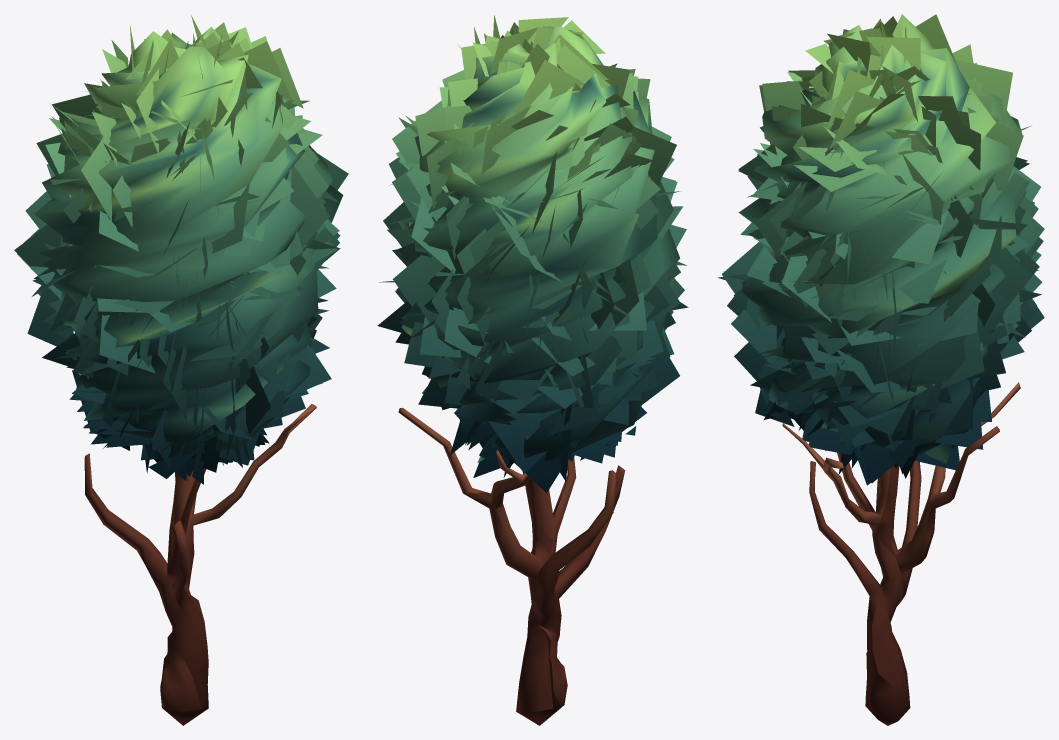
The model's file is Forest_Tree_2D.fbx.
3 views of the same model, side by side, from view 1: azimuth 30°, elevation 25°; view 2: azimuth 150°, elevation 25°; view 3: azimuth 270°, elevation 25° (orthographic).
Visible parts, largest first — view 1: Forest_Tree_2D; view 2: Forest_Tree_2D; view 3: Forest_Tree_2D.
Boxes of the visible parts, x1,y1,x2,y2 form: Forest_Tree_2D: (14, 15, 348, 725); Forest_Tree_2D: (377, 15, 688, 725); Forest_Tree_2D: (718, 14, 1044, 725).
Bounding box in the file's own units: 324 × 734 × 311.
